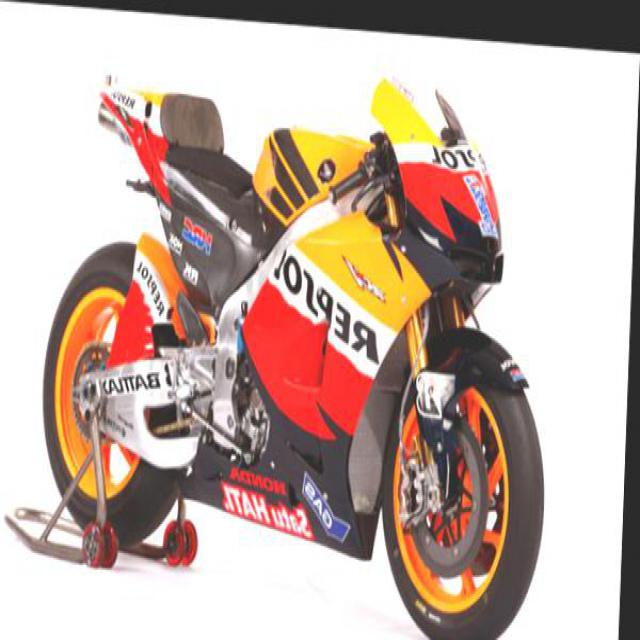HRC RCV 213: (36, 34, 563, 638)
